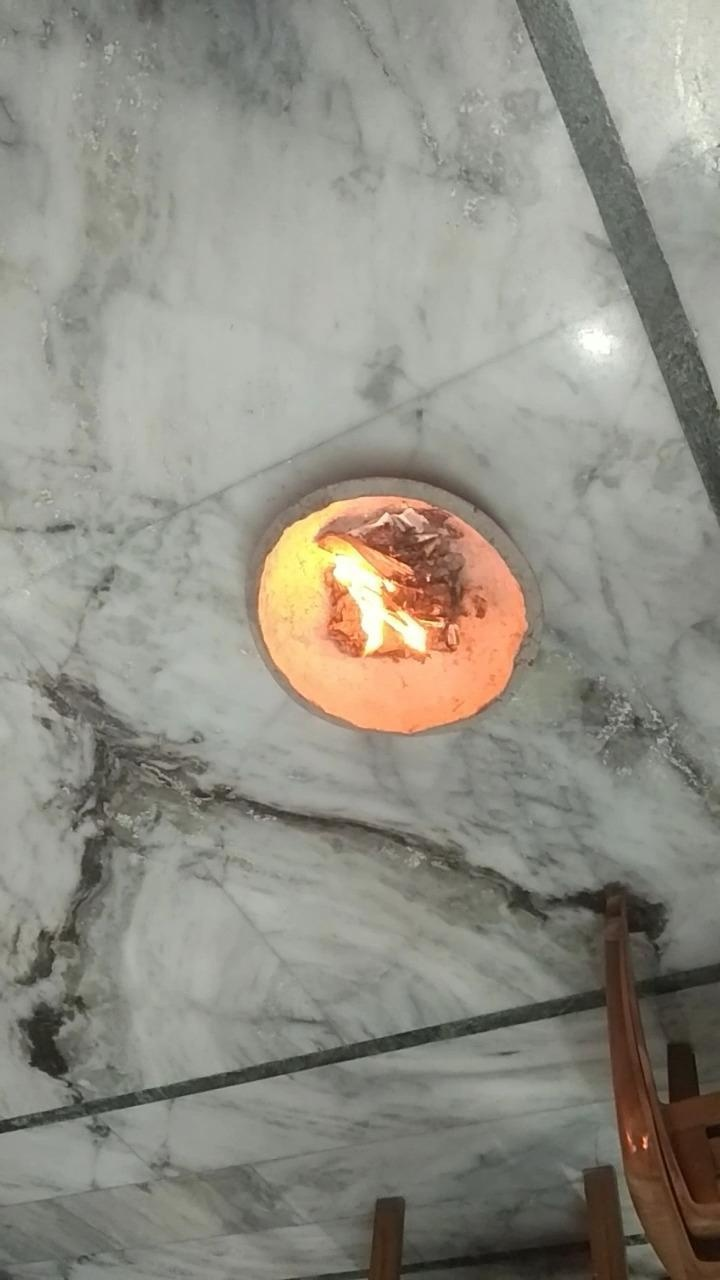fire: (307, 518, 420, 662)
